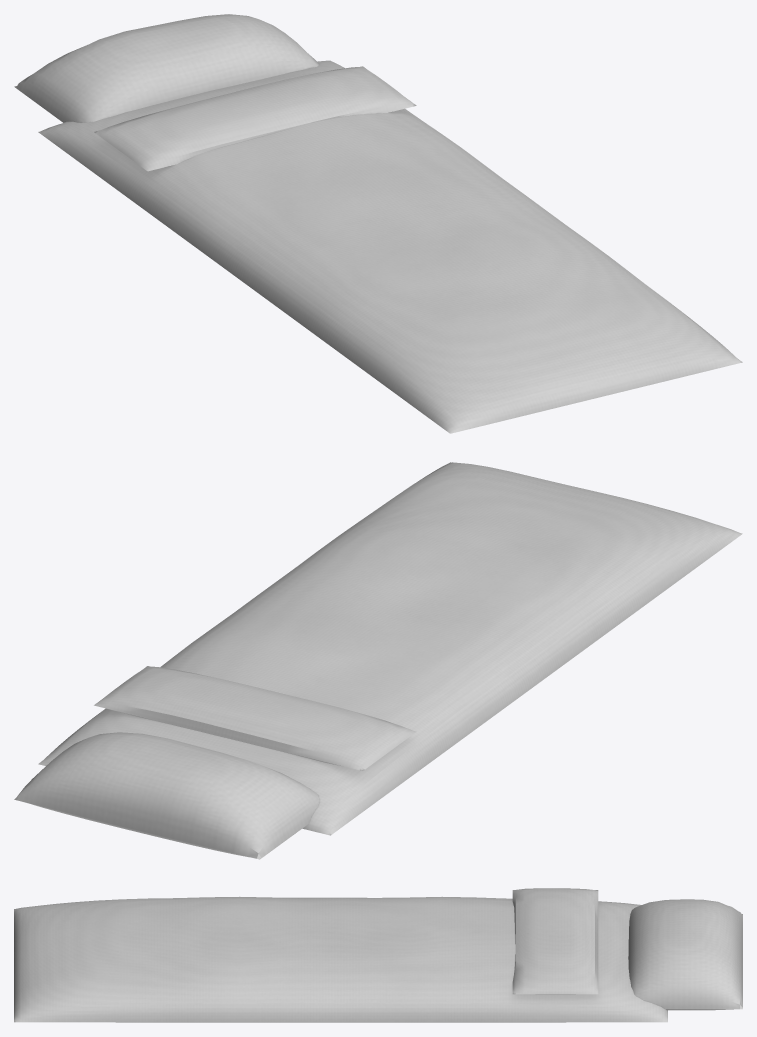
Rendered from bed_sleeping_bag.glb.
The picture shows the model from 3 angles, top to bottom: view 1: azimuth 30°, elevation 25°; view 2: azimuth 150°, elevation 25°; view 3: azimuth 270°, elevation 25°; orthographic projection. The views are drawn at different scales.
Parts seen in each view (by area): view 1: bed_sleeping_bag; view 2: bed_sleeping_bag; view 3: bed_sleeping_bag.
Part boxes in pixels (x1,y1,x2,y2): bed_sleeping_bag: [14, 14, 742, 433]; bed_sleeping_bag: [14, 462, 742, 859]; bed_sleeping_bag: [14, 888, 742, 1022].
Bounding box in the file's own units: 0.5 × 0.0975 × 1.36.
Materials: 1 (1 with a texture image).
